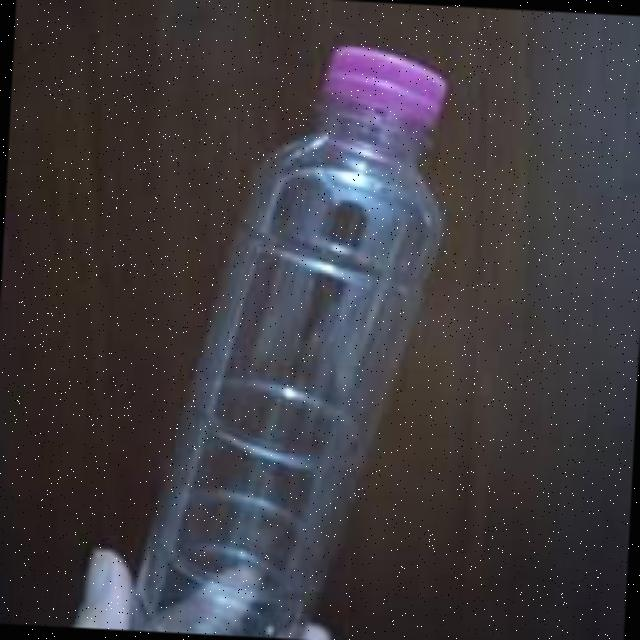bottle: (140, 36, 450, 632)
cap: (326, 45, 451, 124)
